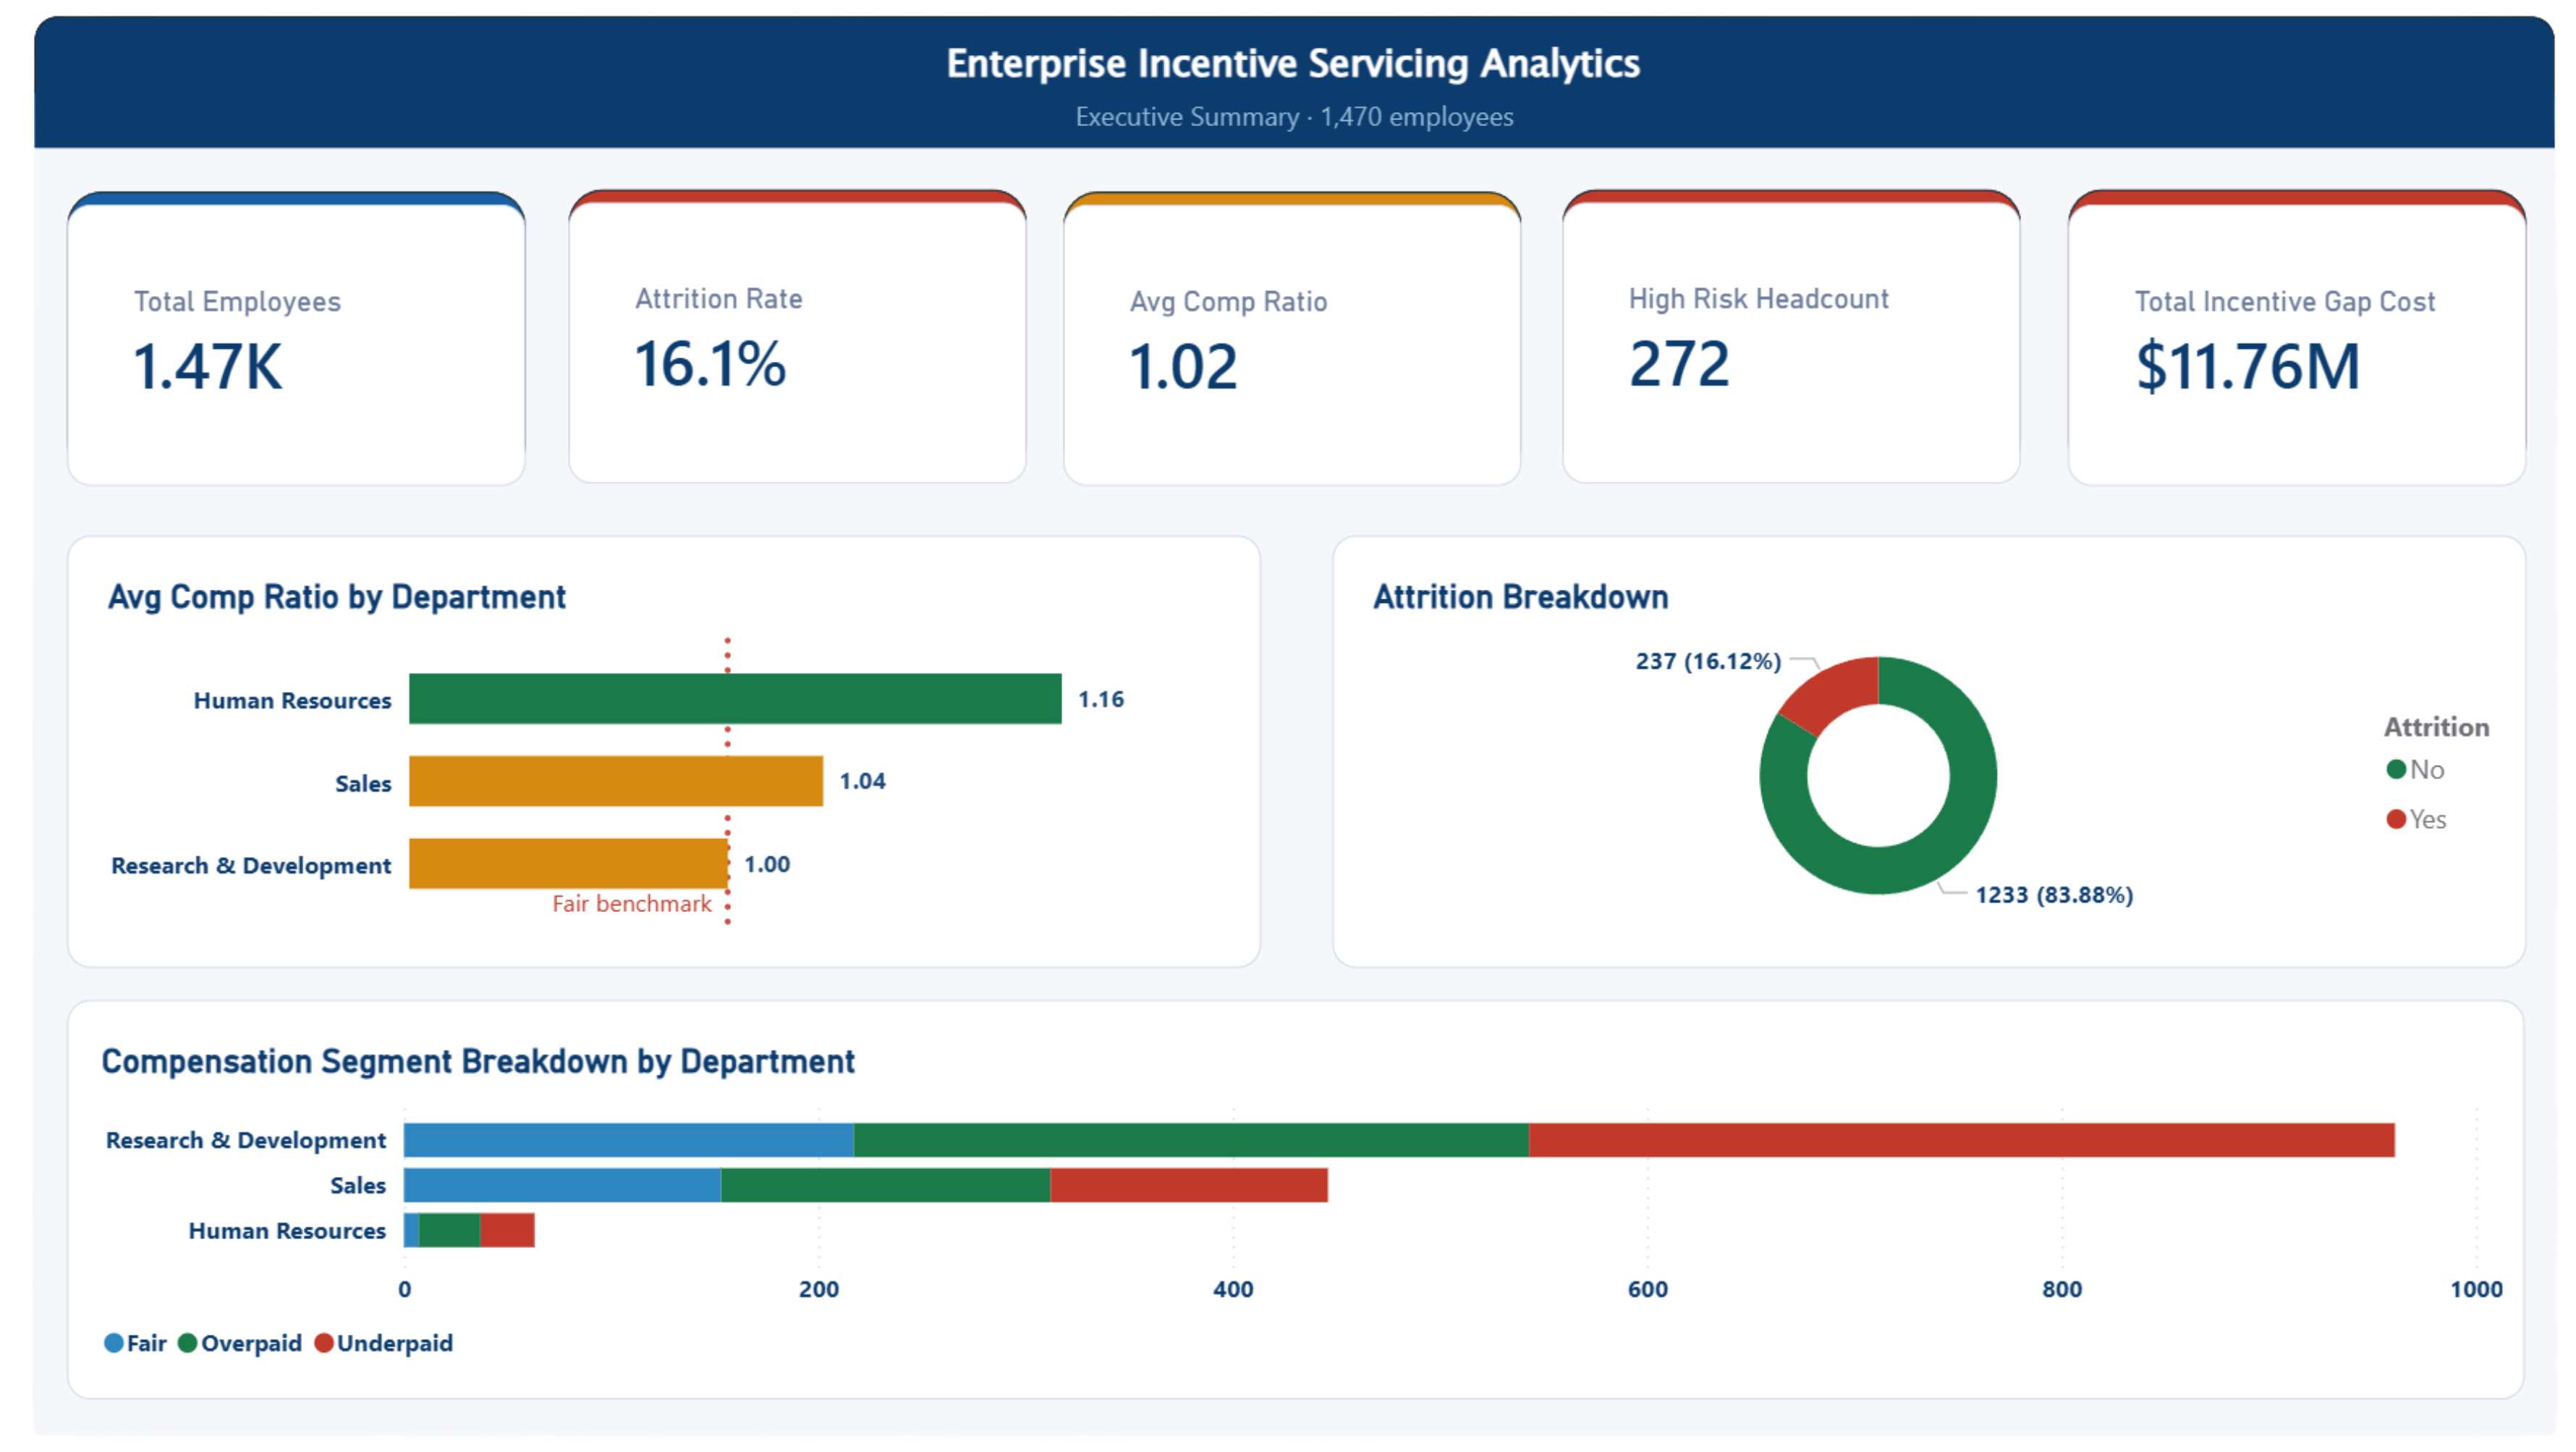

Layout of this report page (visuals, bound fields, positions):
{"tool":"powerbi","page":{"name":"Executive Summary","canvas":[1280,720],"ordinal":0},"visuals":[{"type":"textbox","box":[0,0,1279.6,53],"z":0},{"type":"textbox","box":[0,38.5,1279.6,28.1],"z":1000},{"type":"shape","box":[16.8,89,232.8,146],"z":2000},{"type":"cardVisual","fields":{"Data":["_Measures.Total Employees"]},"box":[17,95.6,232.8,142.4],"z":3000},{"type":"shape","box":[271.4,87.9,232.8,146],"z":4000},{"type":"cardVisual","fields":{"Data":["_Measures.Attrition Rate"]},"box":[271.6,94.5,232.8,142.4],"z":5000},{"type":"shape","box":[522.2,89.3,232.8,146],"z":6000},{"type":"cardVisual","fields":{"Data":["_Measures.Avg Comp Ratio"]},"box":[521.8,95.6,232.8,142.4],"z":7000},{"type":"shape","box":[775.2,87.9,232.8,146],"z":8000},{"type":"cardVisual","fields":{"Data":["_Measures.High Risk Headcount"]},"box":[775.4,94.5,232.8,142.4],"z":9000},{"type":"shape","box":[1032,87.9,232.8,146],"z":10000},{"type":"cardVisual","fields":{"Data":["_Measures.Total Incentive Gap Cost"]},"box":[1031.9,96,232.8,142.4],"z":11000},{"type":"clusteredBarChart","fields":{"Y":["_Measures.Avg Comp Ratio"],"Category":["Dim_Department.Department"]},"box":[16.6,263,606,219.3],"z":12000},{"type":"donutChart","title":"Attrition Breakdown","fields":{"Y":["_Measures.Total Employees"],"Category":["Fact_Employee.Attrition"]},"box":[659,263,606,219.3],"z":13000},{"type":"barChart","title":"Compensation Segment Breakdown by Department","fields":{"Category":["Dim_Department.Department"],"Y":["_Measures.Total Employees"],"Series":["Fact_Employee.CompSegment"]},"box":[16.2,498.8,1247.5,202.5],"z":14000}]}

Visuals, with their boxes in screenshot pixels (x1, y1, x2, y2), scaled from the page's 1280x720 canvas onto the 2576x1452 screenshot:
textbox: x1=0, y1=0, x2=2575, y2=107
textbox: x1=0, y1=77, x2=2575, y2=135
shape: x1=34, y1=180, x2=502, y2=474
cardVisual - _Measures.Total Employees: x1=34, y1=193, x2=503, y2=480
shape: x1=546, y1=177, x2=1014, y2=472
cardVisual - _Measures.Attrition Rate: x1=546, y1=190, x2=1015, y2=478
shape: x1=1051, y1=180, x2=1520, y2=475
cardVisual - _Measures.Avg Comp Ratio: x1=1050, y1=193, x2=1519, y2=480
shape: x1=1560, y1=177, x2=2029, y2=472
cardVisual - _Measures.High Risk Headcount: x1=1561, y1=190, x2=2029, y2=478
shape: x1=2077, y1=177, x2=2546, y2=472
cardVisual - _Measures.Total Incentive Gap Cost: x1=2077, y1=193, x2=2545, y2=481
clusteredBarChart - _Measures.Avg Comp Ratio x Dim_Department.Department: x1=33, y1=531, x2=1253, y2=973
"Attrition Breakdown" donutChart: x1=1326, y1=531, x2=2546, y2=973
"Compensation Segment Breakdown by Department" barChart: x1=33, y1=1006, x2=2543, y2=1414
